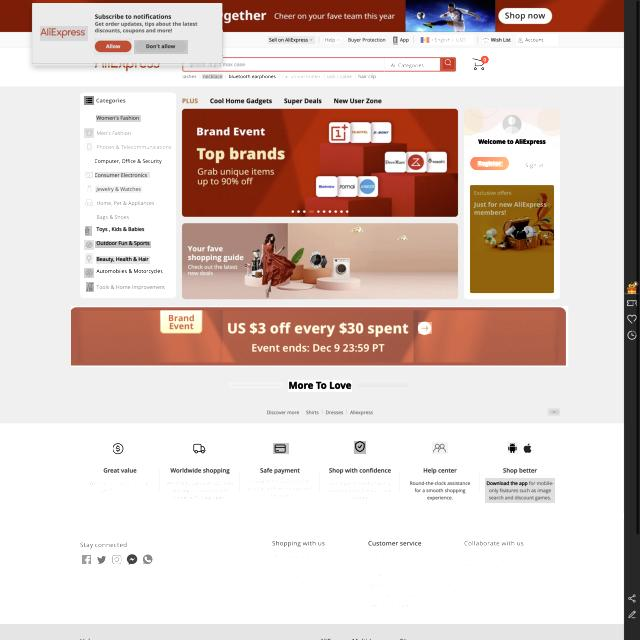CheckBox: (134, 41, 188, 56), (469, 158, 510, 174), (514, 157, 555, 173), (94, 40, 132, 57)
ImageView: (71, 306, 570, 367), (470, 185, 554, 293)
Input field: (485, 478, 555, 503), (245, 479, 314, 504), (408, 478, 473, 504), (327, 480, 394, 505), (166, 480, 235, 504), (86, 480, 152, 495)
accordion: (0, 513, 624, 519), (229, 382, 283, 388), (357, 383, 409, 388)
alert: (420, 35, 474, 45), (516, 34, 558, 46), (268, 36, 315, 44), (389, 61, 436, 69), (325, 36, 341, 44)
badge: (0, 511, 623, 624)
breadcrumbs: (288, 380, 352, 392), (477, 137, 547, 147), (464, 538, 524, 548), (270, 538, 326, 548), (77, 539, 130, 549), (367, 539, 422, 548), (96, 97, 128, 106)
carousel: (472, 53, 490, 73), (190, 442, 209, 454), (114, 441, 128, 456), (432, 442, 448, 454), (273, 443, 289, 454), (420, 322, 434, 334), (354, 442, 366, 456), (95, 553, 107, 566), (111, 553, 123, 566), (142, 553, 154, 566), (80, 554, 92, 566), (126, 554, 138, 566), (522, 442, 532, 455), (508, 442, 518, 454), (443, 60, 454, 70), (84, 112, 94, 123), (547, 408, 560, 416), (84, 128, 94, 138), (84, 142, 94, 152), (84, 240, 94, 250), (84, 268, 94, 278), (84, 198, 94, 207), (85, 212, 94, 222), (85, 226, 94, 236), (84, 96, 94, 105), (85, 253, 93, 264), (212, 6, 222, 14), (84, 170, 94, 178), (86, 282, 94, 292), (86, 183, 93, 194), (85, 157, 94, 164), (518, 36, 524, 45), (482, 37, 490, 43), (393, 36, 398, 45)
data feed: (96, 143, 173, 151), (96, 270, 164, 278), (96, 158, 166, 165), (96, 284, 166, 291), (95, 242, 151, 250), (96, 256, 150, 264), (96, 200, 156, 207), (504, 10, 546, 20), (95, 228, 146, 235), (96, 129, 134, 138), (96, 172, 152, 178), (95, 186, 142, 193), (96, 115, 141, 122), (228, 74, 277, 80), (96, 214, 130, 221), (282, 74, 321, 80), (523, 162, 546, 170), (491, 36, 512, 44), (477, 163, 503, 169), (358, 73, 376, 81), (525, 36, 545, 43), (327, 74, 353, 79), (181, 73, 197, 80), (202, 74, 223, 79), (399, 36, 411, 44)
date picker: (40, 28, 88, 43)
header: (32, 4, 223, 66)
